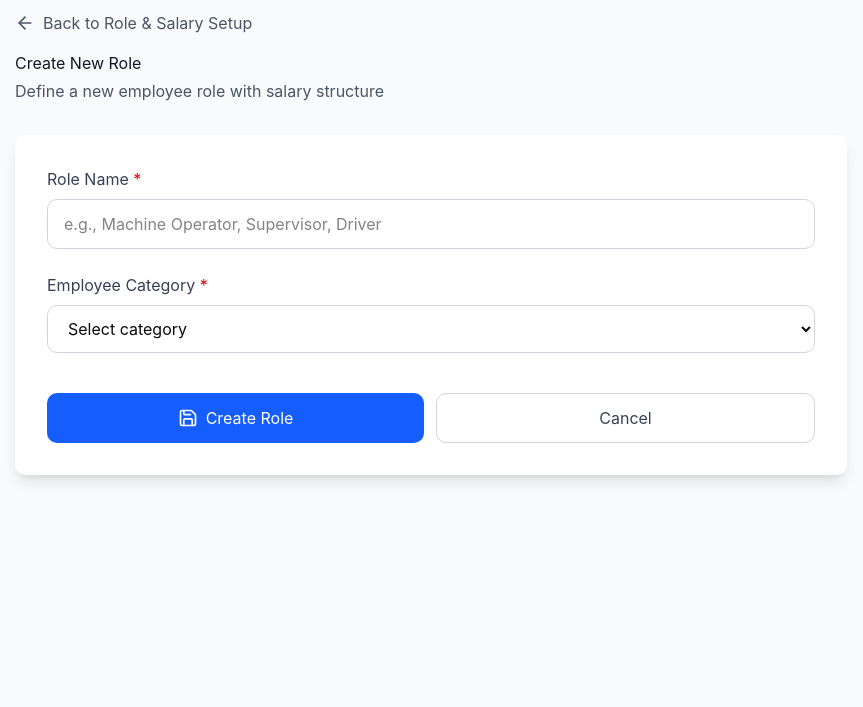
Test: CreateRoleScreen › fields for each category › Daily Wages asks for a per-day wage and offers the no-loading-wages option
Select "Daily Wages" in the dropdown labelled "Employee Category *" at (431, 329), box [47,305,815,353]
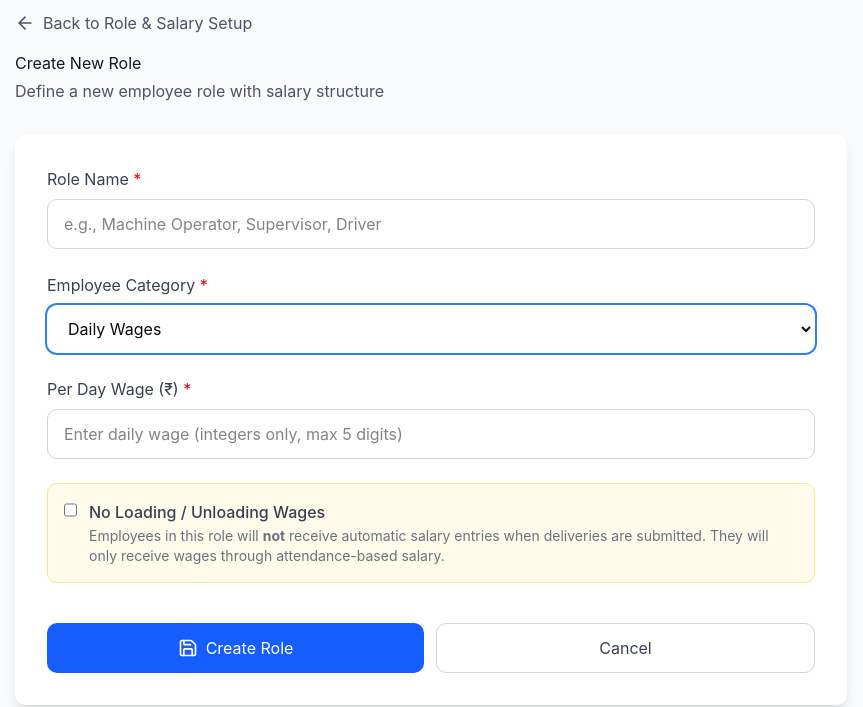
Expected: the number field labelled "Per Day Wage (₹) *" is shown, [47,409,815,459]
Expected: the checkbox labelled "No Loading / Unloading Wages" is shown, [64,502,77,518]
